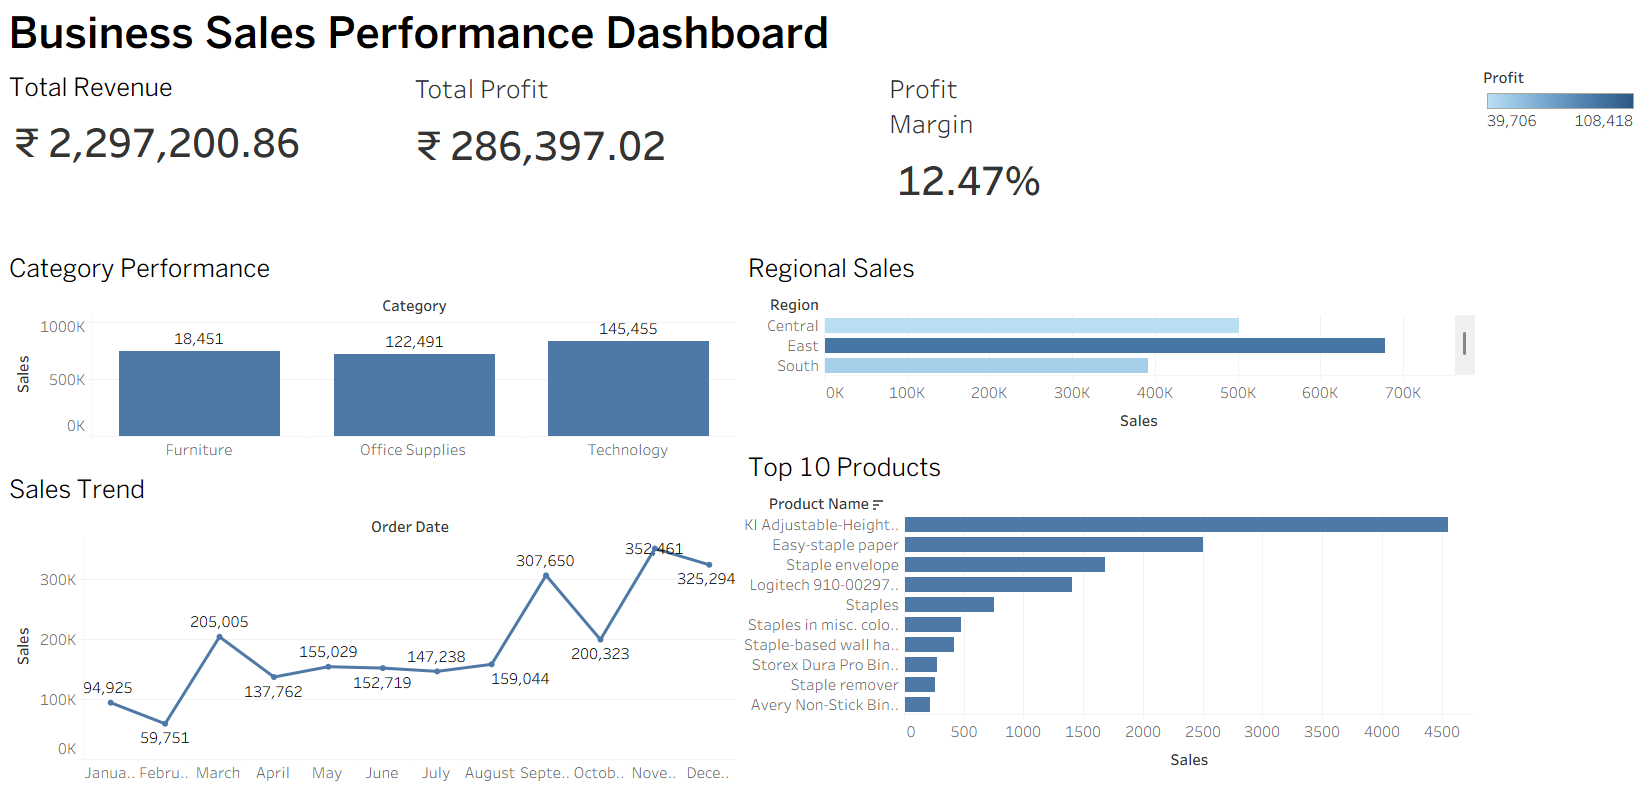

What the dashboard file says about the page in this screenshot:
{"tool":"tableau","page":{"name":"Dashboard 1","canvas":[1000,1000],"units":"permille","ordinal":0},"visuals":[{"type":"title","box":[4.8,10,990.3,74.9]},{"type":"worksheet","title":"Sheet 5","mark":"Automatic","box":[4.8,84.9,245,226.3]},{"type":"worksheet","title":"Sheet 6","mark":"Automatic","box":[249.8,84.9,286.1,226.3]},{"type":"worksheet","title":"Sheet 7","mark":"Automatic","box":[535.9,84.9,360.9,226.3]},{"type":"legend","title":"Sheet 4","param":"[federated.1ssbrki1bb1qi51axg3or1w21b5o].[sum:Profit:qk]","box":[896.8,84.9,98.4,91.1]},{"type":"worksheet","title":"Sheet 3","mark":"Automatic","rows":["Sales"],"cols":["Category"],"box":[4.8,311.2,446,275.3]},{"type":"worksheet","title":"Sheet 4","mark":"Automatic","rows":["Region"],"cols":["Sales"],"box":[450.8,311.2,446,247.6]},{"type":"worksheet","title":"Sheet 2","mark":"Automatic","rows":["Product Name"],"cols":["Sales"],"box":[450.8,558.8,446,431.2]},{"type":"worksheet","title":"Sheet 1","mark":"Automatic","rows":["Sales"],"cols":["Order Date"],"box":[4.8,586.4,446,403.6]}]}

Visuals, with their boxes on the dashboard's canvas, which has no fixed pixel size, in thousandths of its width and height (x1, y1, x2, y2). These are canvas units, not pixel positions in the 1643x787 screenshot, which may show the page scaled, cropped or inside an application window:
title: region(5, 10, 995, 85)
"Sheet 5" worksheet: region(5, 85, 250, 311)
"Sheet 6" worksheet: region(250, 85, 536, 311)
"Sheet 7" worksheet: region(536, 85, 897, 311)
"Sheet 4" legend: region(897, 85, 995, 176)
"Sheet 3" worksheet: region(5, 311, 451, 586)
"Sheet 4" worksheet: region(451, 311, 897, 559)
"Sheet 2" worksheet: region(451, 559, 897, 990)
"Sheet 1" worksheet: region(5, 586, 451, 990)
